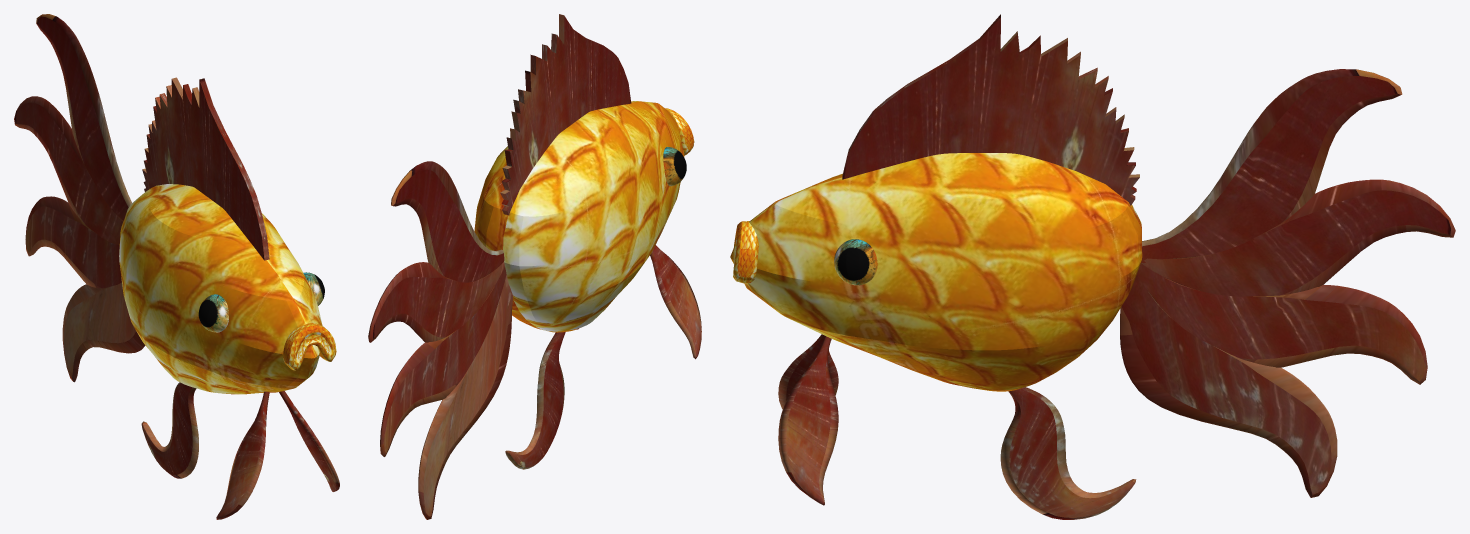
The model's file is Gold_Fish.fbx.
3 views of the same model, side by side, from view 1: azimuth 30°, elevation 25°; view 2: azimuth 150°, elevation 25°; view 3: azimuth 270°, elevation 25° (orthographic). The views are drawn at different scales.
Parts seen in each view (by area): view 1: Cube, Cube.002, Cube.001, Cube.004, Cube.003, Cube.005, Sphere; view 2: Cube, Cube.002, Cube.001, Cube.003, Cube.004, Sphere, Cube.005; view 3: Cube.002, Cube, Cube.001, Cube.003, Cube.004, Sphere, Cube.005.
Boxes of the visible parts, <box> form: Cube: <box>119,184,322,394</box>; Cube.002: <box>14,14,145,382</box>; Cube.001: <box>142,77,269,260</box>; Cube.004: <box>216,391,339,519</box>; Cube.003: <box>141,382,198,478</box>; Cube.005: <box>283,322,336,370</box>; Sphere: <box>198,272,324,332</box>; Cube: <box>474,101,684,332</box>; Cube.002: <box>368,161,512,519</box>; Cube.001: <box>500,14,631,215</box>; Cube.003: <box>505,332,565,469</box>; Cube.004: <box>576,245,701,359</box>; Sphere: <box>663,147,686,186</box>; Cube.005: <box>665,108,694,155</box>; Cube.002: <box>1120,69,1455,497</box>; Cube: <box>730,153,1142,391</box>; Cube.001: <box>842,14,1139,205</box>; Cube.003: <box>1000,387,1136,519</box>; Cube.004: <box>778,334,838,505</box>; Sphere: <box>834,239,877,285</box>; Cube.005: <box>733,221,758,283</box>.
Size of the model in its own units: 1.18 by 4.7 by 3.62.
